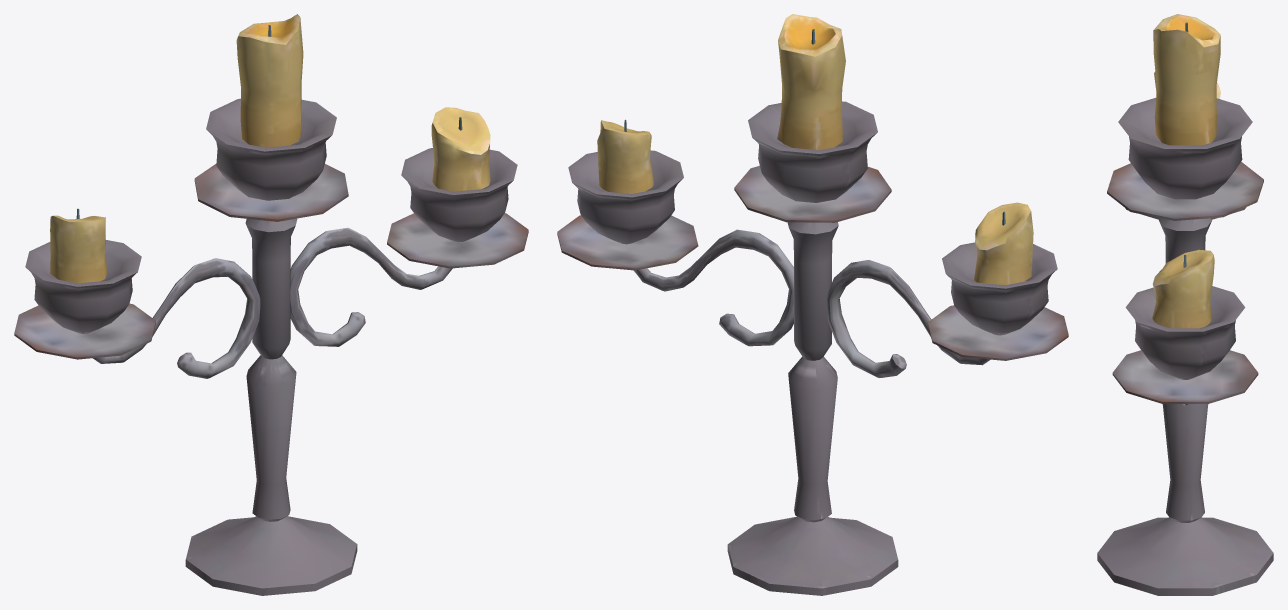
File: CandleStick_Triple.glb
3 views of the same model, side by side, from view 1: azimuth 30°, elevation 25°; view 2: azimuth 150°, elevation 25°; view 3: azimuth 270°, elevation 25° (orthographic).
Visible parts, largest first — view 1: CandleStick_Triple; view 2: CandleStick_Triple; view 3: CandleStick_Triple.
Part boxes in pixels (box(x1,y1,x2,y2)): CandleStick_Triple: box(14, 14, 528, 595); CandleStick_Triple: box(557, 14, 1068, 595); CandleStick_Triple: box(1097, 14, 1273, 595).
Size of the model in its own units: 0.4423 by 0.4633 by 0.1364.
2 materials, 2 textured.
